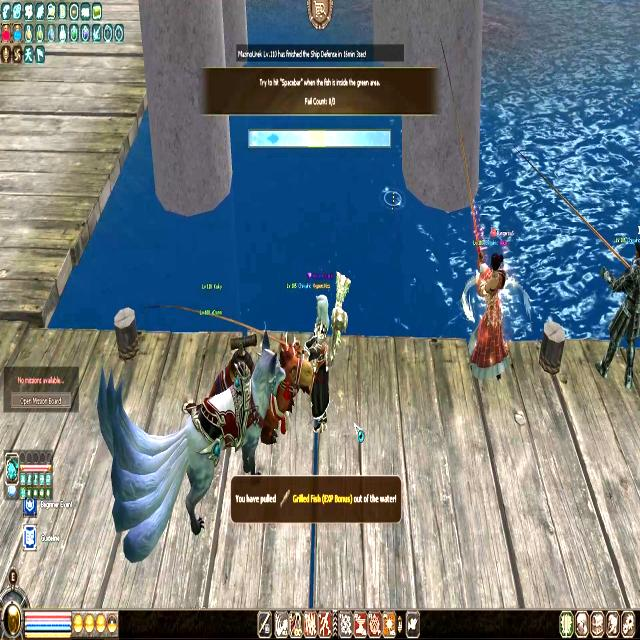fishes: (266, 132, 279, 144)
